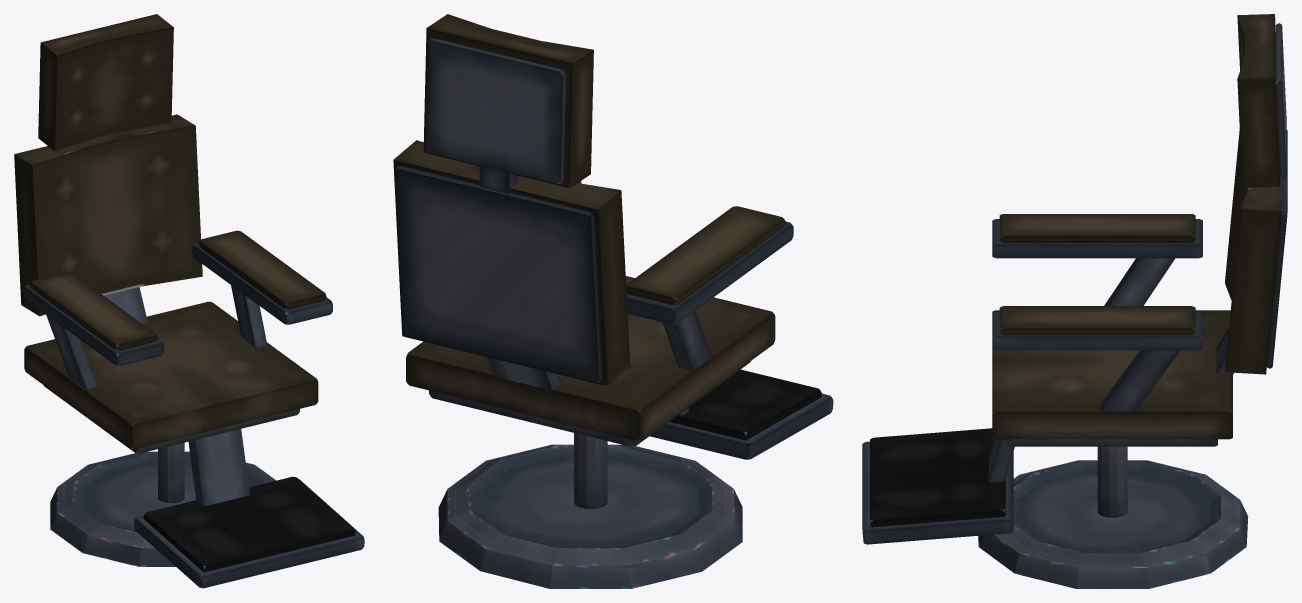
The model's file is ChairFinal.fbx.
The picture shows the model from 3 angles, left to right: view 1: azimuth 30°, elevation 25°; view 2: azimuth 150°, elevation 25°; view 3: azimuth 270°, elevation 25°; orthographic projection. The views are drawn at different scales.
Visible parts, largest first — view 1: backcushon, seatcushon, headcushon, foot cushon, baseouter, baseinner, mesh_2, armcushonL, footsupport, legstand, armrestL, mesh_1 (+5 smaller); view 2: backsupport, seatcushon, baseouter, headsupport, baseinner, backcushon, headcushon, mesh_2, foot cushon, footsupport, mesh_1, Stand (+4 smaller); view 3: seatcushon, baseouter, baseinner, foot cushon, backcushon, headcushon, armcushonL, mesh_2, footsupport, armrestL, mesh_1, armstandL (+6 smaller).
Boxes of the visible parts, x1,y1,x2,y2 form: backcushon: (14,114,202,316); seatcushon: (24,301,318,448); headcushon: (38,14,173,151); foot cushon: (143,476,355,577); baseouter: (50,451,275,566); baseinner: (63,452,272,542); mesh_2: (29,272,157,350); armcushonL: (198,230,326,309); footsupport: (134,479,364,588); legstand: (188,429,249,506); armrestL: (192,243,332,324); mesh_1: (23,284,163,365); backsupport: (394,166,602,382); seatcushon: (406,276,775,440); baseouter: (438,444,742,588); headsupport: (426,38,566,183); baseinner: (455,444,725,558); backcushon: (393,140,630,386); headcushon: (423,14,593,188); mesh_2: (626,206,785,304); foot cushon: (669,369,821,446); footsupport: (650,393,833,459); mesh_1: (626,221,793,324); Stand: (574,433,607,508); seatcushon: (992,310,1232,439); baseouter: (978,460,1248,588); baseinner: (1004,460,1232,562); foot cushon: (870,428,1005,527); backcushon: (1225,130,1281,374); headcushon: (1237,14,1280,187); armcushonL: (999,306,1195,335); mesh_2: (999,214,1195,242); footsupport: (862,441,1013,544); armrestL: (992,311,1202,350); mesh_1: (992,219,1202,258); armstandL: (1100,350,1180,411).
Bounding box in the file's own units: 116 × 223 × 176.
1 material, 1 textured.
